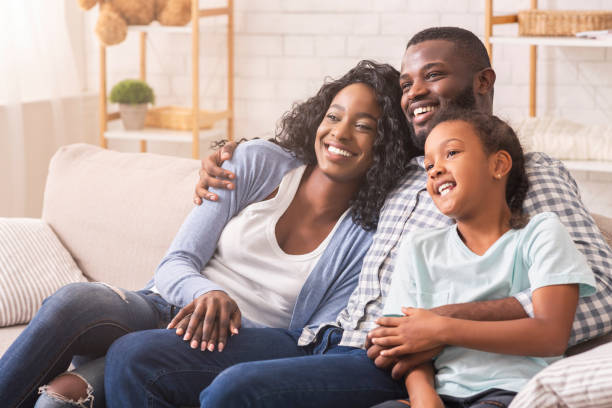without mask: (417, 118, 505, 217), (307, 79, 395, 178), (392, 36, 480, 135)
